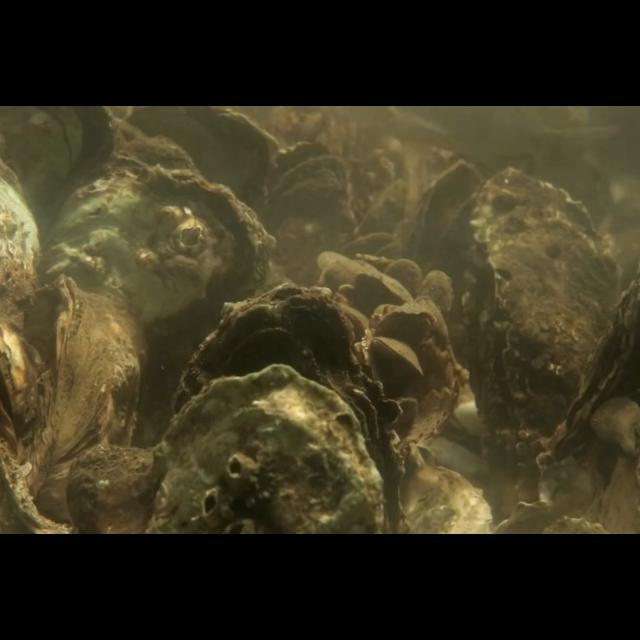Oyster-Closed: (45, 165, 274, 442), (172, 282, 402, 534), (456, 165, 614, 462), (144, 363, 383, 535), (532, 267, 640, 501), (370, 336, 424, 378), (378, 310, 436, 342)
Oyster-Indeterminate: (28, 274, 142, 534), (404, 158, 484, 312), (353, 270, 413, 306), (384, 258, 424, 306), (420, 268, 452, 320)
Oyster-Open: (256, 140, 352, 282)
